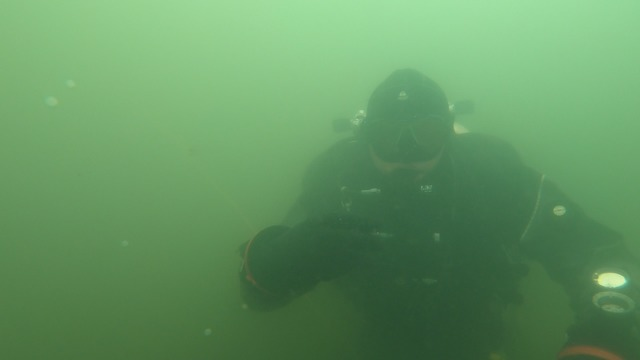Diver: (228, 62, 639, 358)
Hand: (251, 208, 376, 307)
Head: (362, 64, 460, 208)
